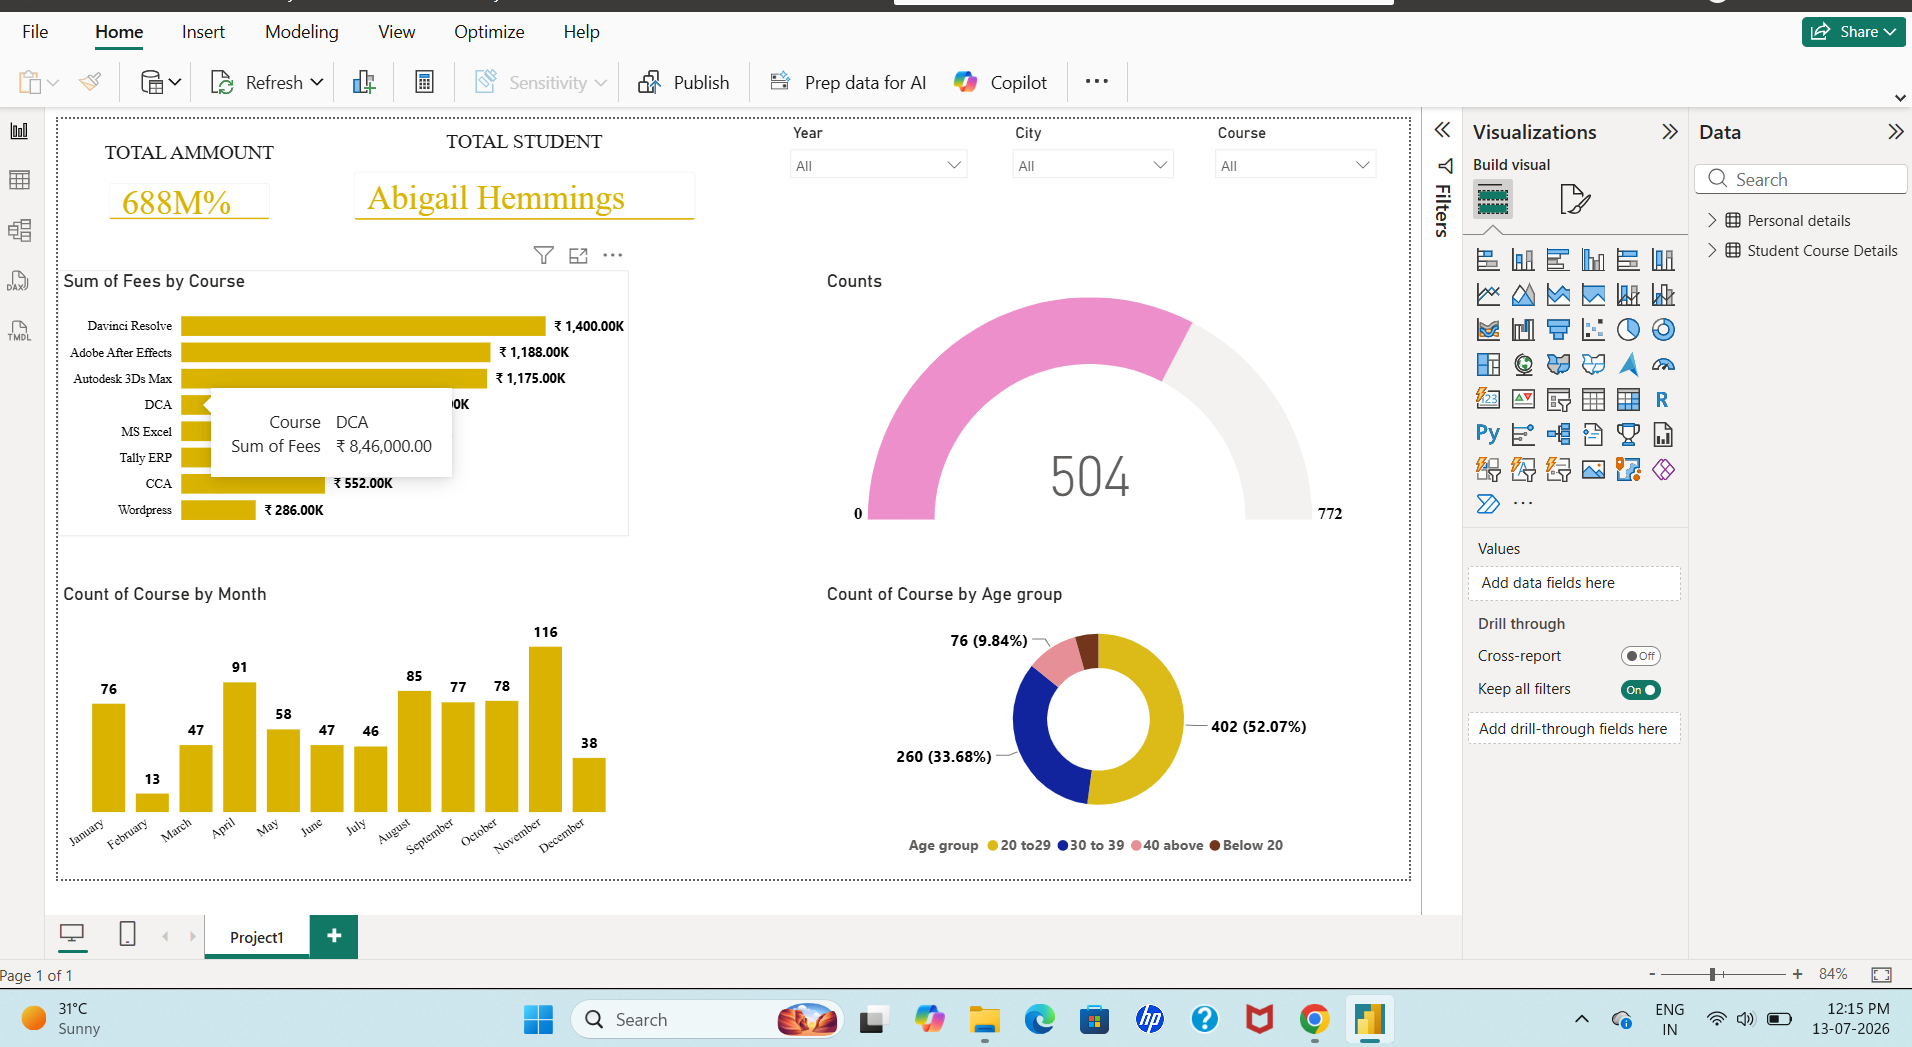

The dashboard page shown, as its layout file describes it:
{"tool":"powerbi","page":{"name":"Project1","canvas":[1280,720],"ordinal":0},"visuals":[{"type":"clusteredColumnChart","fields":{"Category":["Student Course Details.Date of join.Variation.Date Hierarchy.Year","Student Course Details.Date of join.Variation.Date Hierarchy.Quarter","Student Course Details.Date of join.Variation.Date Hierarchy.Month","Student Course Details.Date of join.Variation.Date Hierarchy.Day"],"Y":["CountNonNull(Student Course Details.Course)","select1"]},"box":[0,439.4,541.2,279.5],"z":0},{"type":"donutChart","fields":{"Y":["CountNonNull(Student Course Details.Course)"],"Category":["Student Course Details.Age group"]},"box":[723.6,439.4,524.6,267.7],"z":1000},{"type":"clusteredBarChart","fields":{"Category":["Student Course Details.Course"],"Y":["Sum(Student Course Details.Fees)"]},"box":[0,143.3,541.2,252.3],"z":2000},{"type":"cardVisual","title":"TOTAL AMMOUNT","fields":{"Data":["Sum(Student Course Details.Fees)"]},"box":[29.6,21.3,189.5,92.4],"z":3000},{"type":"cardVisual","title":"TOTAL STUDENT","fields":{"Data":["Min(Student Course Details.Student name)"]},"box":[261.7,10.7,360,103],"z":4000},{"type":"gauge","title":"Counts","fields":{"Y":["Personal details.countyes"]},"box":[723.6,143.3,524.6,246.3],"z":5000},{"type":"slicer","fields":{"Values":["Student Course Details.Date of join.Variation.Date Hierarchy.Year"]},"box":[683.3,0,188.3,103],"z":6000},{"type":"slicer","fields":{"Values":["Personal details.City"]},"box":[894.2,0,172.9,103],"z":7000},{"type":"slicer","fields":{"Values":["Student Course Details.Course"]},"box":[1086,0,172.9,103],"z":8000}]}

Visuals, with their boxes on the page's 1280x720 design canvas (x1, y1, x2, y2). These are canvas units, not pixel positions in the 1912x1047 screenshot, which may show the page scaled, cropped or inside an application window:
clusteredColumnChart - Student Course Details.Date of join.Variation.Date Hierarchy.Year x Student Course Details.Date of join.Variation.Date Hierarchy.Quarter: bbox=(0, 439, 541, 719)
donutChart - CountNonNull(Student Course Details.Course) x Student Course Details.Age group: bbox=(724, 439, 1248, 707)
clusteredBarChart - Student Course Details.Course x Sum(Student Course Details.Fees): bbox=(0, 143, 541, 396)
"TOTAL AMMOUNT" cardVisual: bbox=(30, 21, 219, 114)
"TOTAL STUDENT" cardVisual: bbox=(262, 11, 622, 114)
"Counts" gauge: bbox=(724, 143, 1248, 390)
slicer - Student Course Details.Date of join.Variation.Date Hierarchy.Year: bbox=(683, 0, 872, 103)
slicer - Personal details.City: bbox=(894, 0, 1067, 103)
slicer - Student Course Details.Course: bbox=(1086, 0, 1259, 103)
